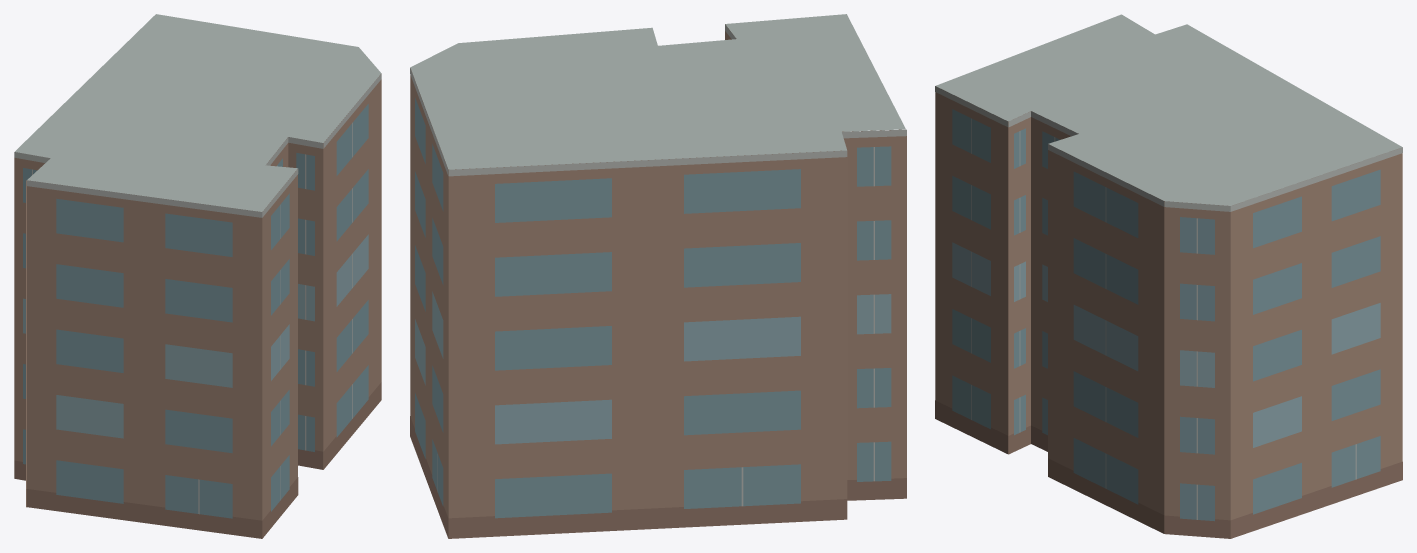
Rendered from survey-upis-32740582.glb.
3 renders of one model, left to right at view 1: azimuth 30°, elevation 25°; view 2: azimuth 150°, elevation 25°; view 3: azimuth 270°, elevation 25°, orthographic. The views are drawn at different scales.
Parts seen in each view (by area): view 1: survey-upis-32740582.tmp; view 2: survey-upis-32740582.tmp; view 3: survey-upis-32740582.tmp.
Part boxes in pixels (<box>): survey-upis-32740582.tmp: <box>14,14,381,538</box>; survey-upis-32740582.tmp: <box>410,14,906,538</box>; survey-upis-32740582.tmp: <box>935,14,1402,538</box>.
Size of the model in its own units: 16.83 by 13.6 by 17.32.
